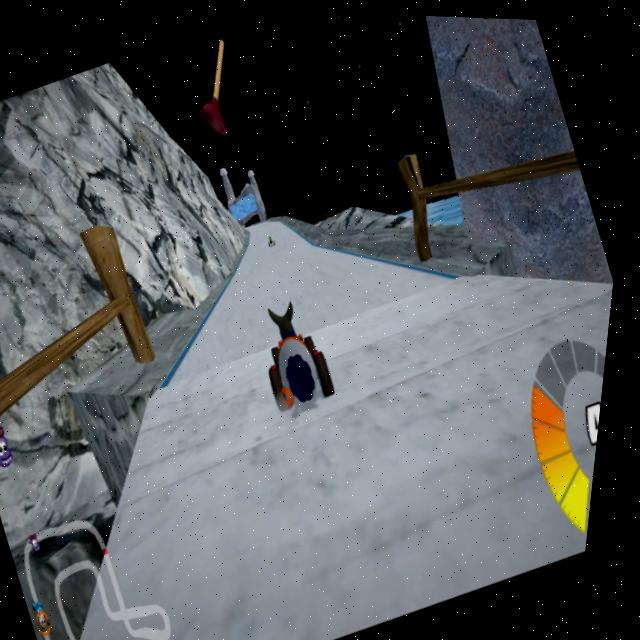enemy_kart: (263, 228, 292, 253)
off_track: (15, 139, 232, 301), (339, 143, 521, 270)
player_kart: (236, 281, 367, 433)
track: (234, 231, 331, 303)
